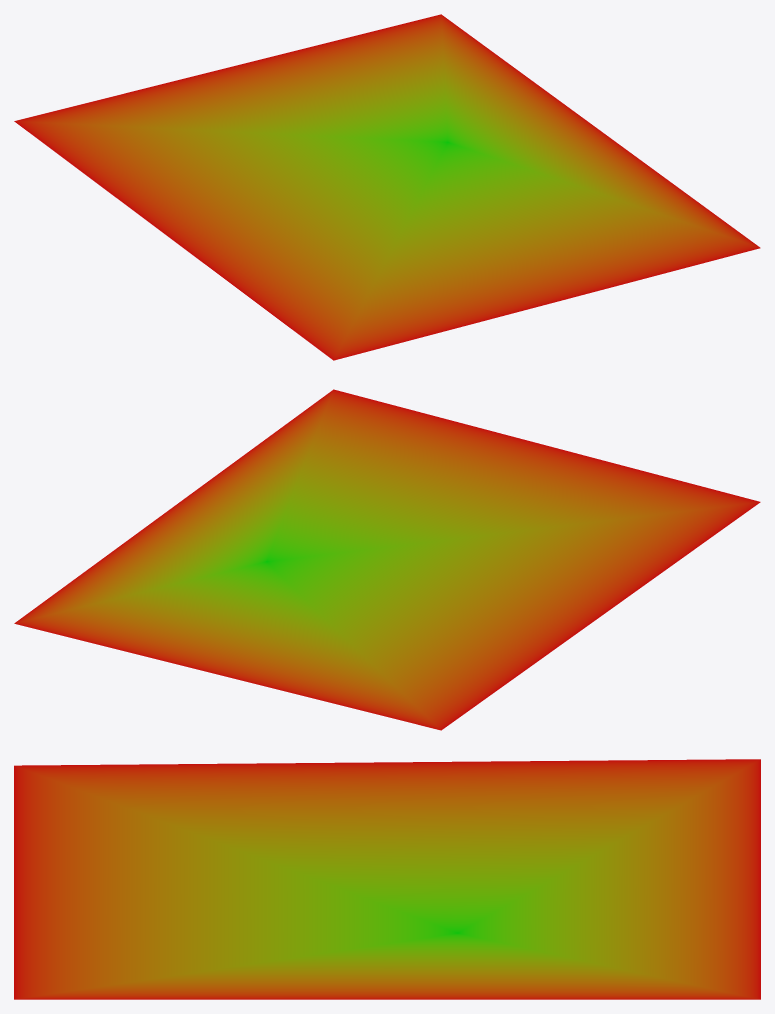
File: Mile-a-minute Vine_LOD3_Var7_sfqns.fbx
The picture shows the model from 3 angles, top to bottom: view 1: azimuth 30°, elevation 25°; view 2: azimuth 150°, elevation 25°; view 3: azimuth 270°, elevation 25°; orthographic projection. The views are drawn at different scales.
Parts seen in each view (by area): view 1: _0182_Var7_LOD3; view 2: _0182_Var7_LOD3; view 3: _0182_Var7_LOD3.
Part boxes in pixels (x1,y1,x2,y2): _0182_Var7_LOD3: [14, 14, 760, 360]; _0182_Var7_LOD3: [14, 389, 760, 730]; _0182_Var7_LOD3: [14, 759, 760, 999].
Bounding box in the file's own units: 29.53 × 0.5468 × 38.26.
